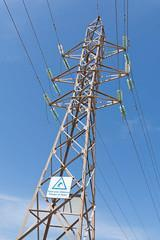power_tower: (19, 12, 137, 240)
